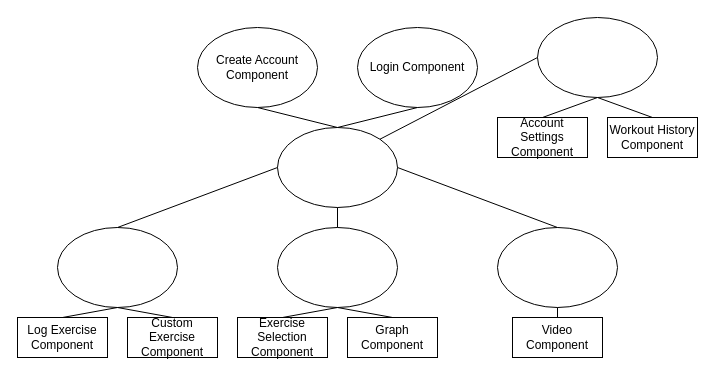
The diagram is 715 pixels wide and 376 high, and some of its shapes have lost their labels. The shapes that lost their labels are listed below. From the top down, each one's box as (x1, y1, x2, y2) in pixels, then its label:
(536, 16, 658, 98): Profile Component
(276, 126, 398, 208): AppComponent
(56, 226, 178, 308): Log Workout Component
(276, 226, 398, 308): Track Progress Component
(496, 226, 618, 308): Exercise Demos Component
